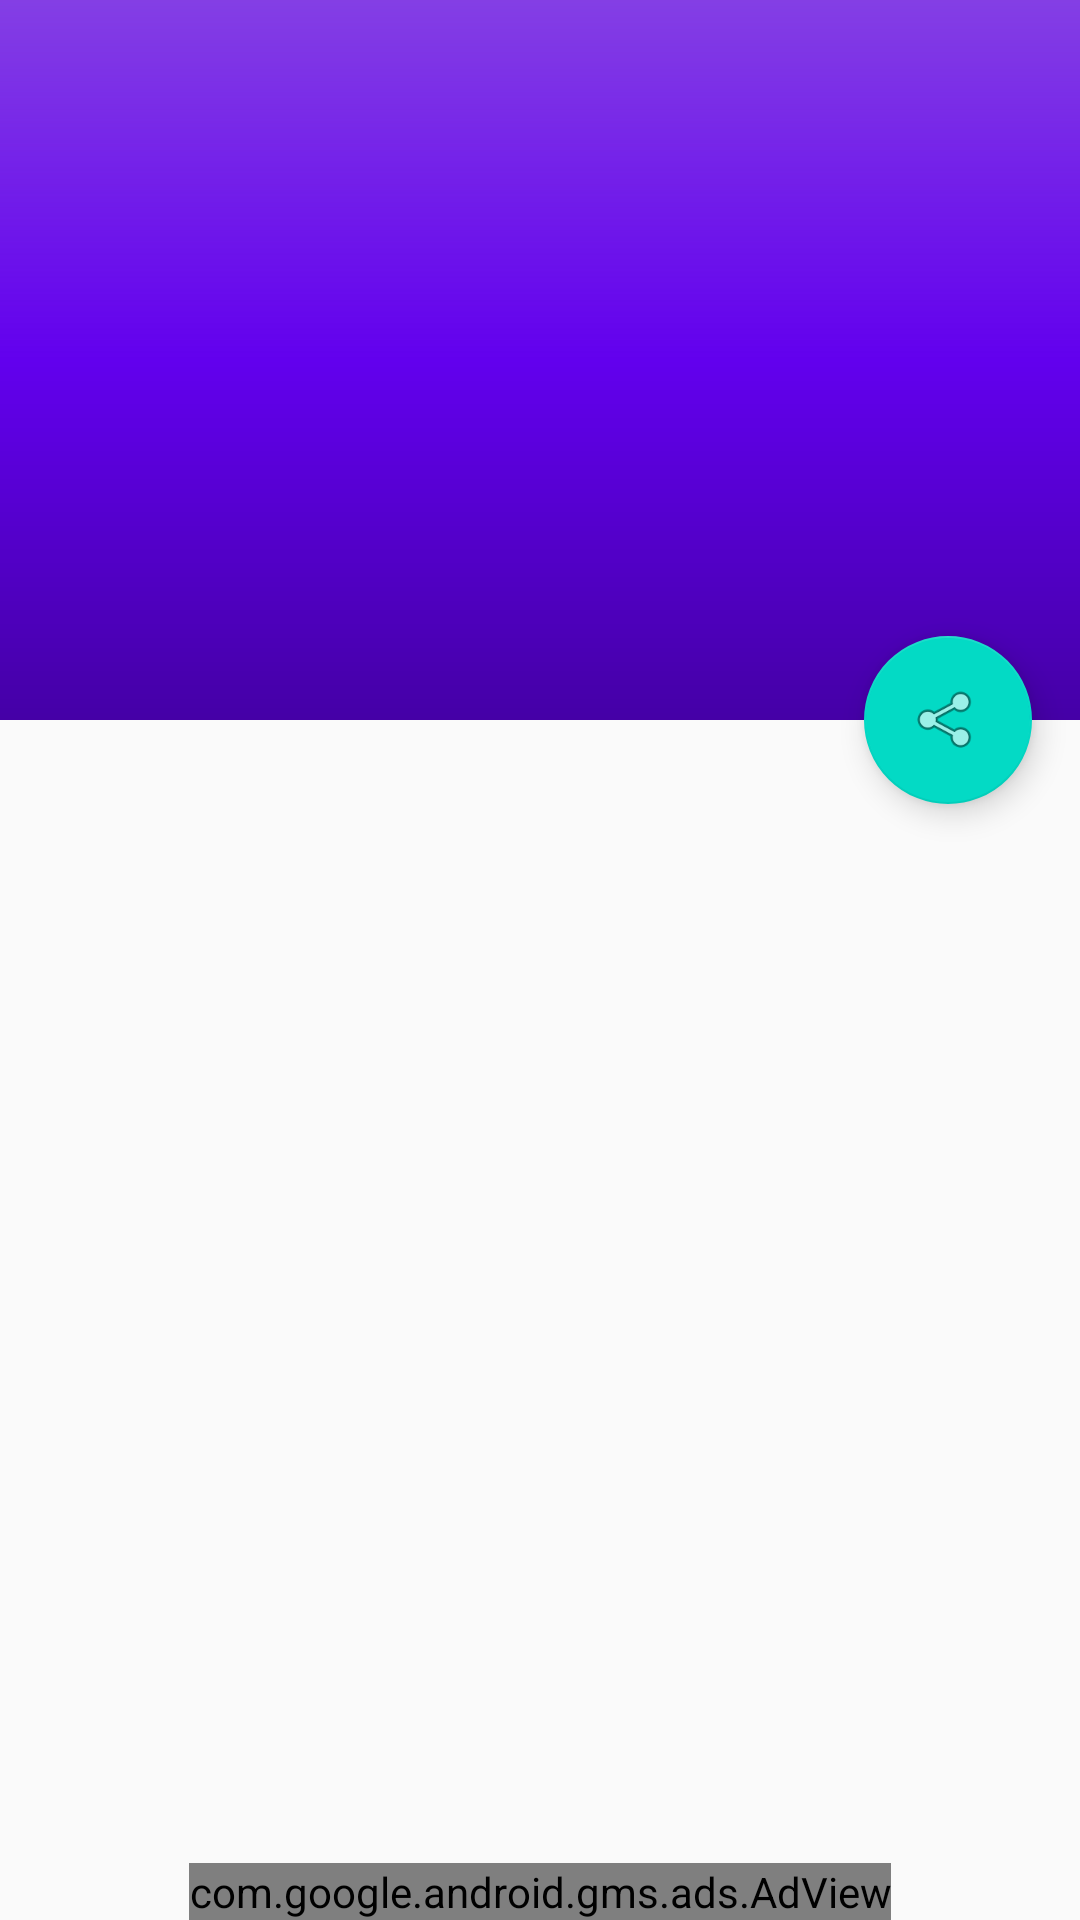

Icons on this 1080 x 1920 Android screen, each with the point to tap as [x,y]:
share: [948,720]
